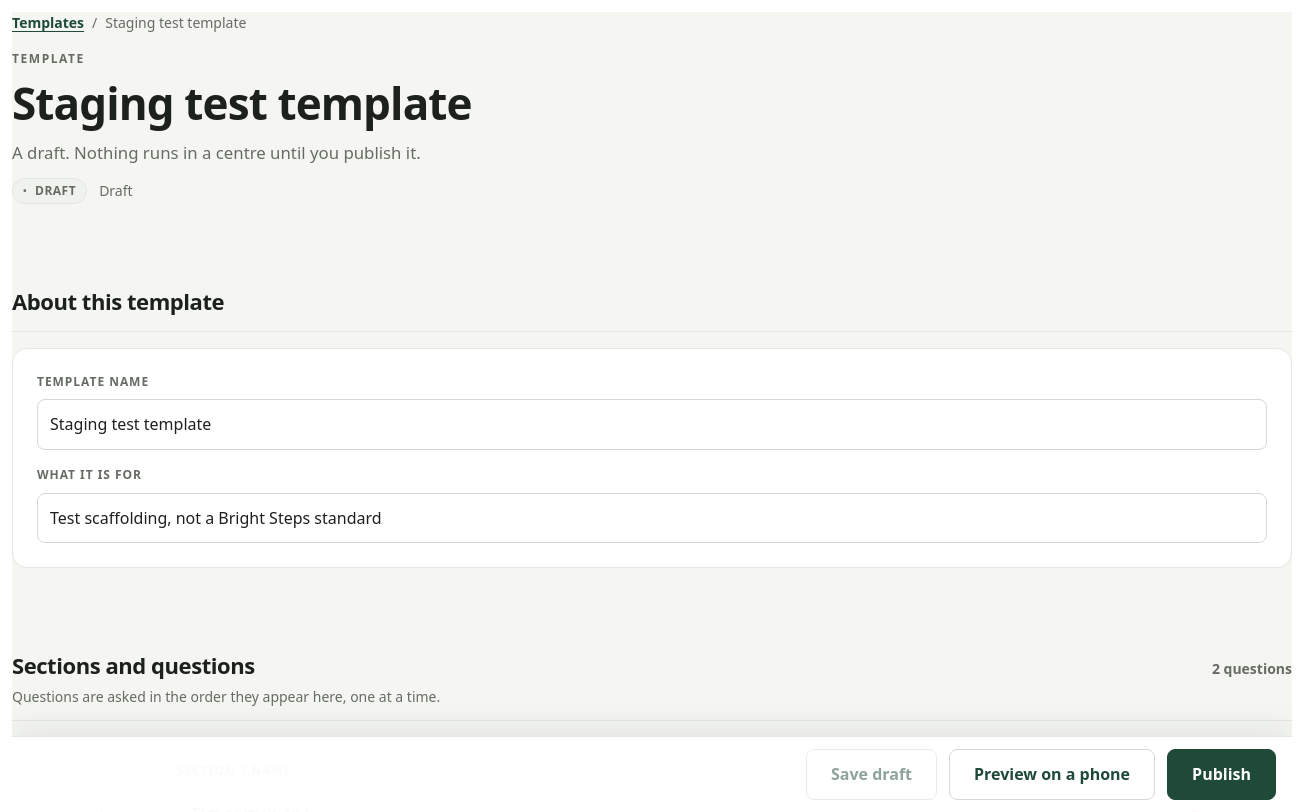
Test: draft editor › saving is disabled until something changes, then reports when it saved
Check: the button "Save draft" is disabled, box [806,749,937,800]
Replace the text in the field labelled "Template name" with "Renamed staging template": point(652, 424) [37,399,1267,450]
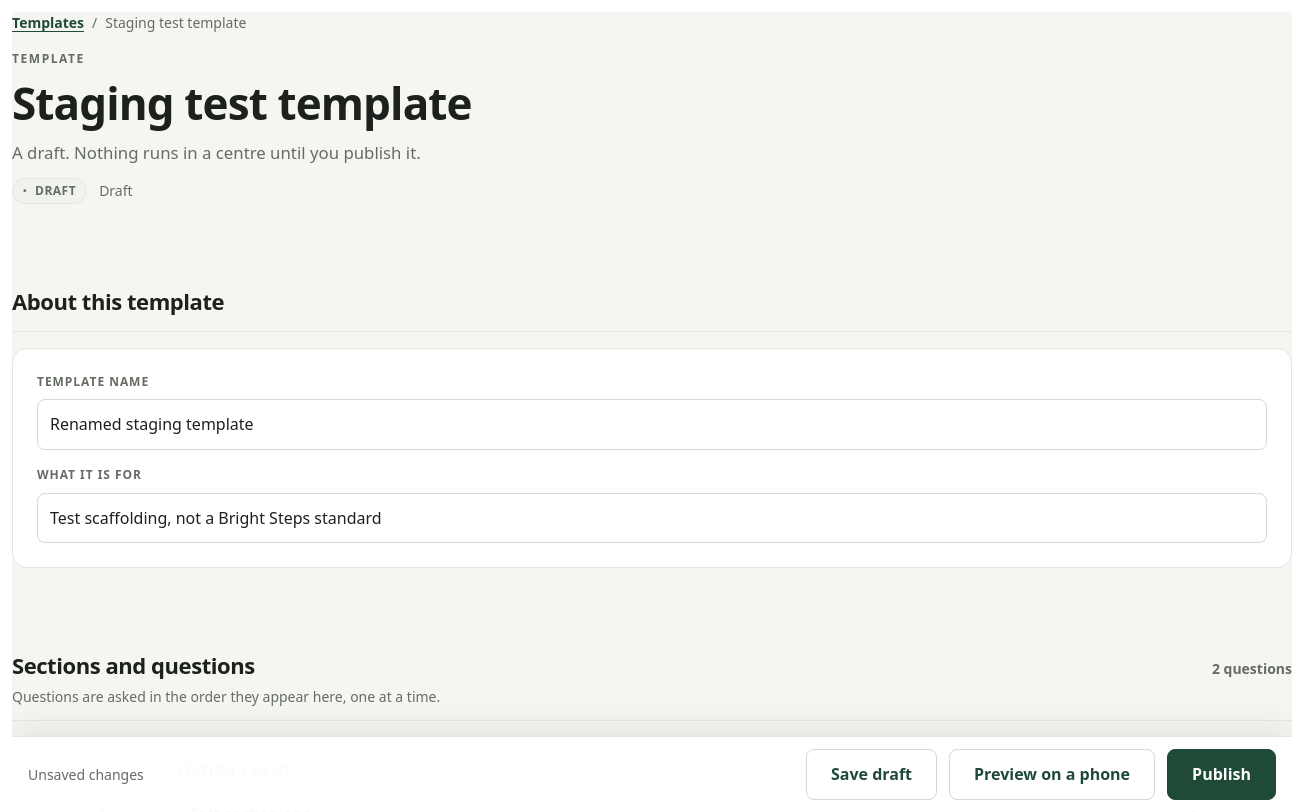
Check: the text "Unsaved changes" is shown, box [28,765,144,784]
Click the button "Save draft": point(872, 775) [806,749,937,800]
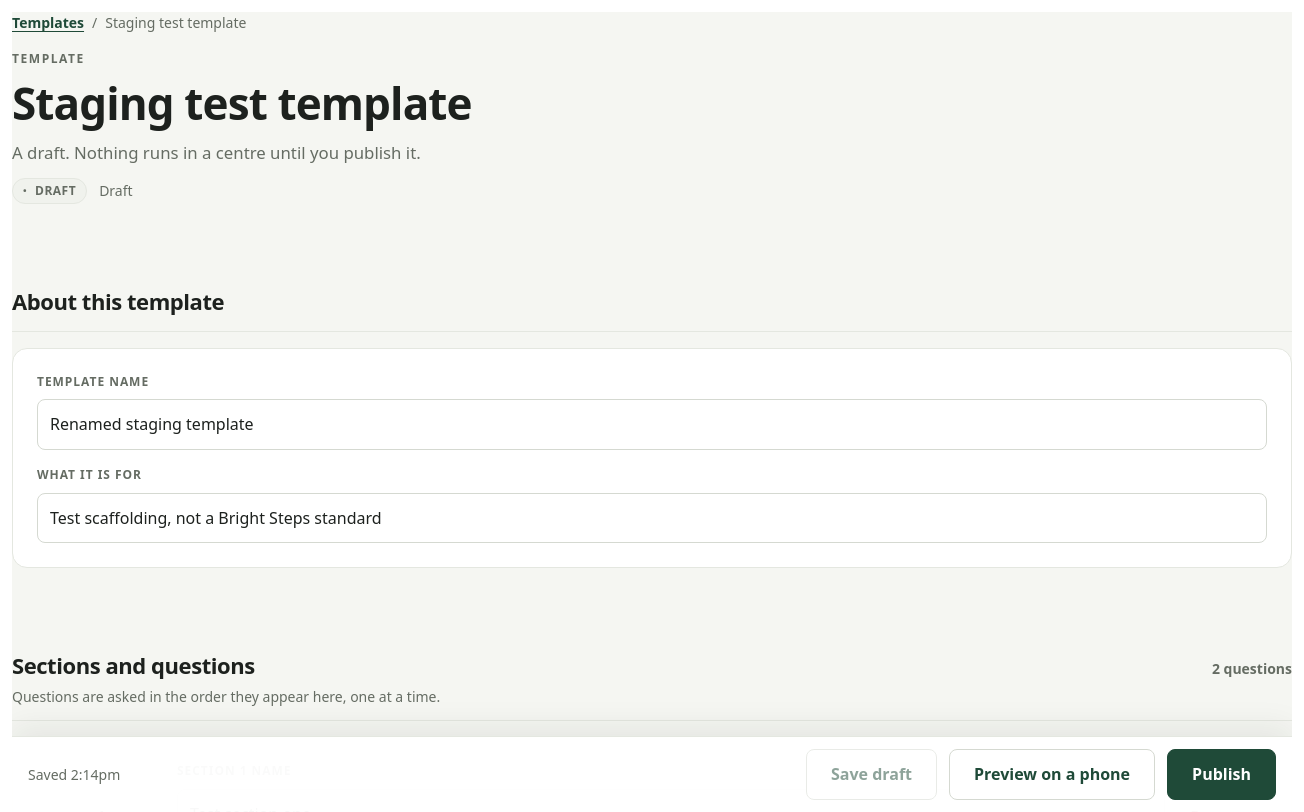
Check: the text "Saved 2:14pm" is shown, box [28,765,120,784]
